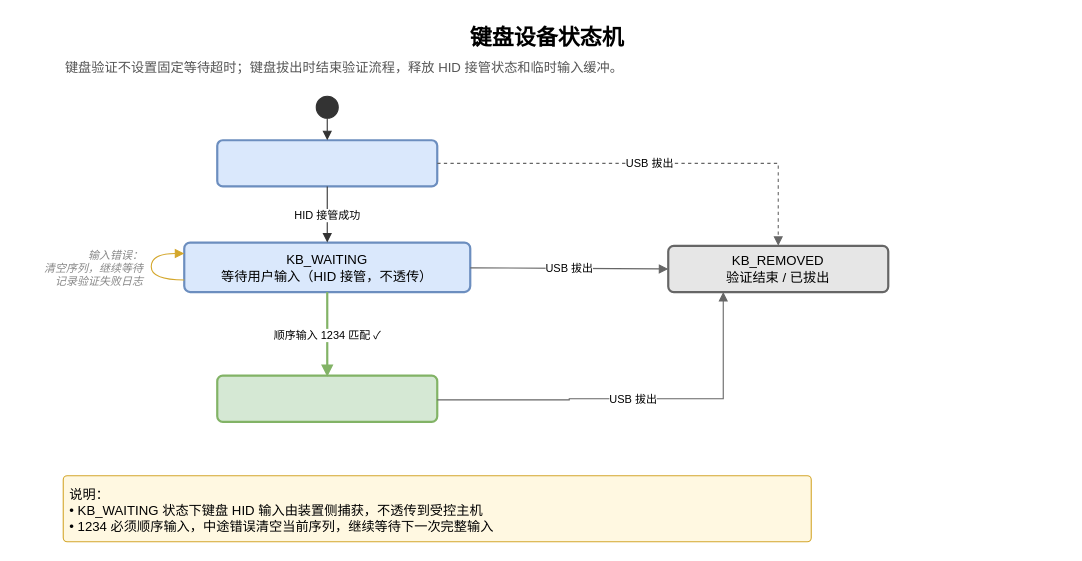
This 1082x561 diagram has some shape labels left out. The shapes that lost their labels are listed below. From the top down, each one's centre as x and y in pixels, then its label:
point 327,163: KB_DETECTED 已检测为键盘
point 327,398: KB_MAPPED 键盘已映射到受控主机
